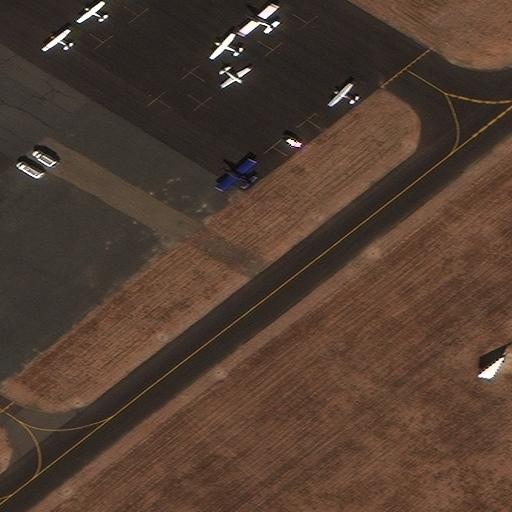Medium Civil Transport: (235, 1, 275, 33)
Small Civil Transport: (214, 158, 252, 187), (208, 32, 240, 57), (40, 27, 70, 49), (326, 82, 356, 104), (75, 0, 105, 21), (222, 68, 251, 89)
